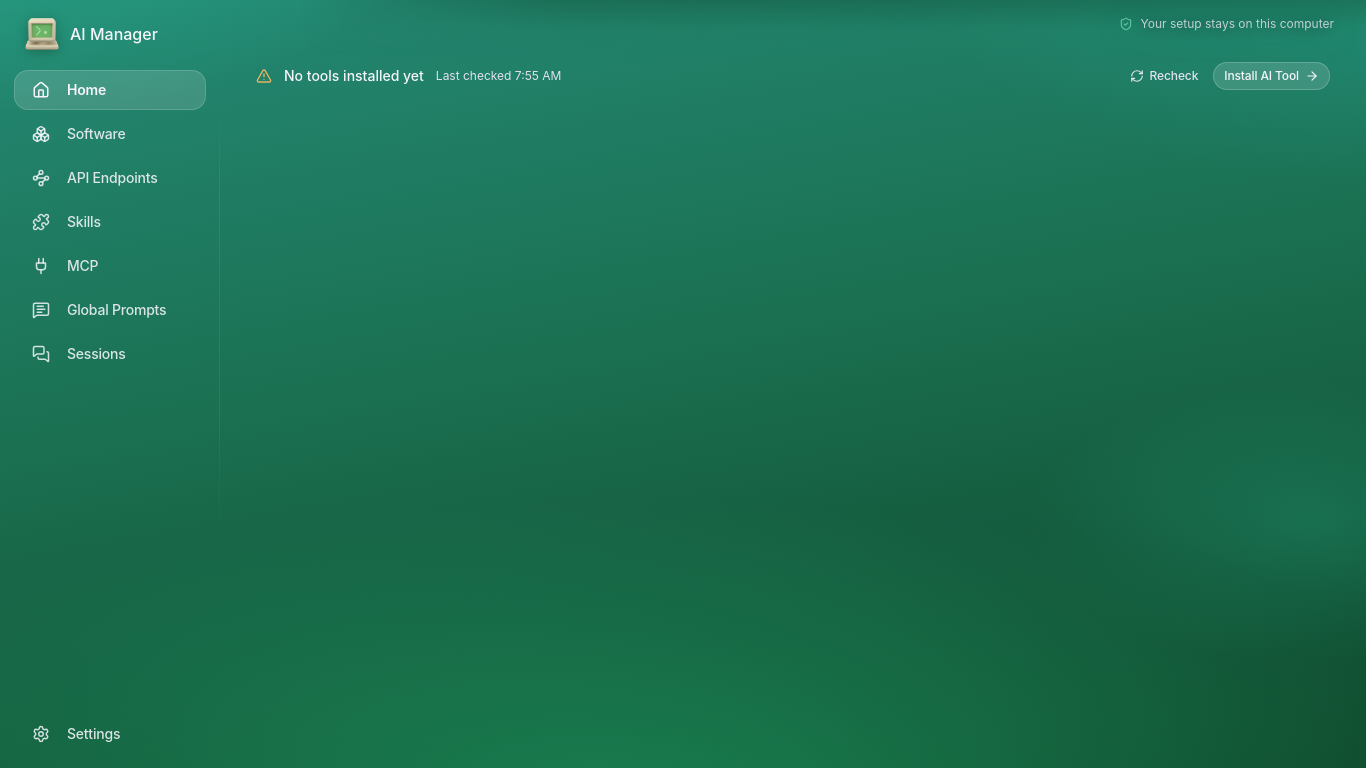
it: AppShell › routes Home's Install action to Software when nothing is installed
Click the 2nd button named "Install AI Tool" at coordinates (1272, 76), box [1213,62,1330,90]
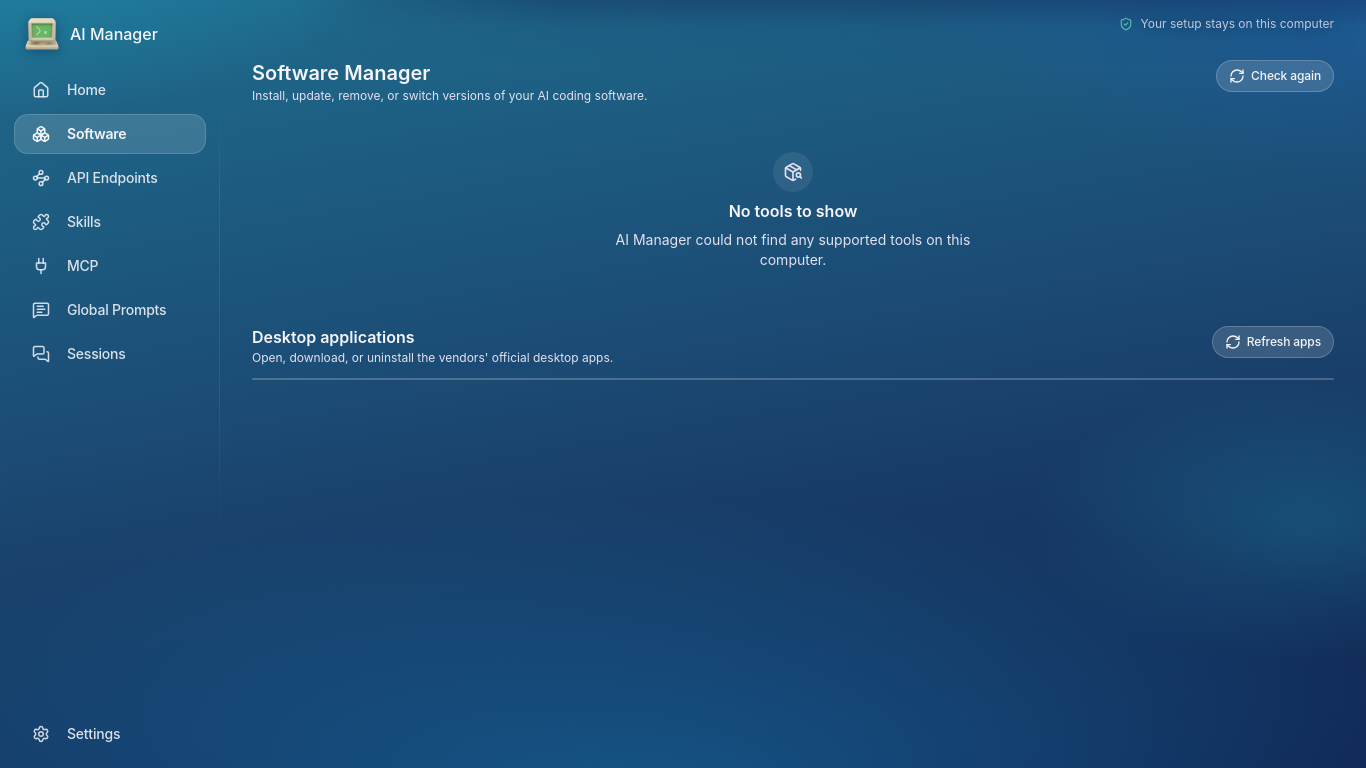
Expected: the heading "Software Manager" is shown, [252,61,430,85]
